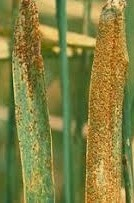Leaf Rust: (82, 18, 129, 203)
